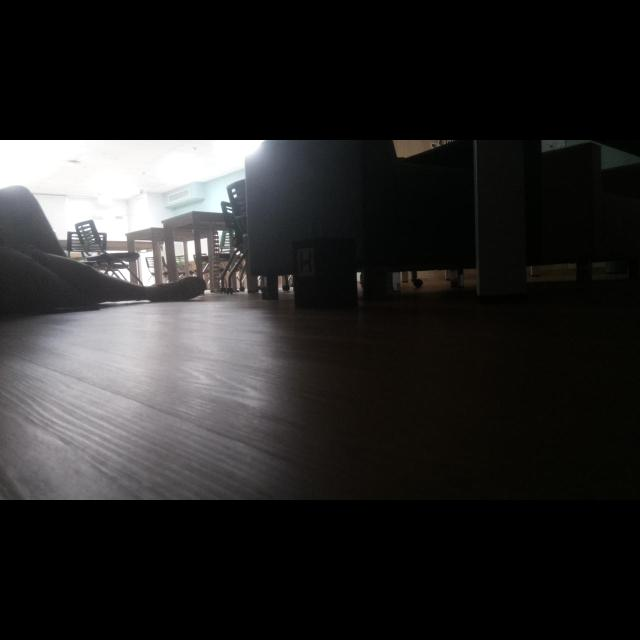H: (300, 250, 312, 273)
